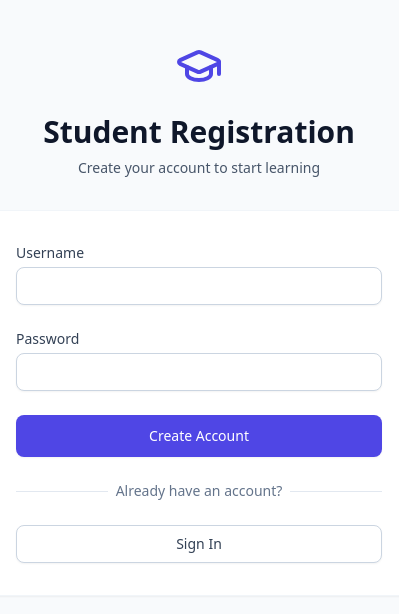
Test: Auth pages › student registration falls back to generic error
The width and height of the screenshot is (399, 614).
Type "new" into the field at [199, 286], box [16,267,382,305]
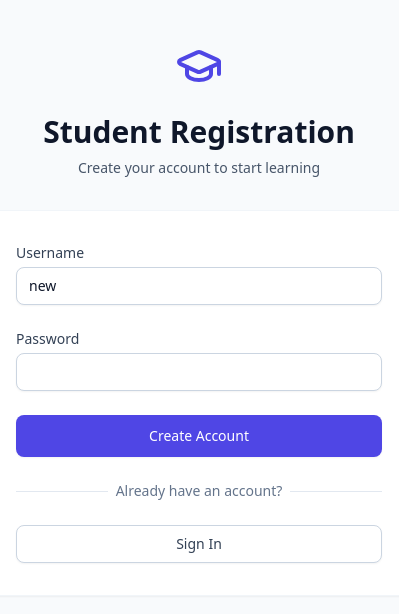
Type "pass" into the password field at [199, 372], box [16,353,382,391]
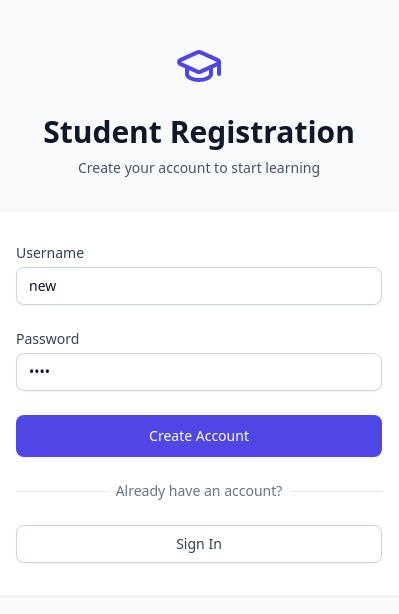
Click the button "Create Account" at [199, 436], box [16,415,382,457]
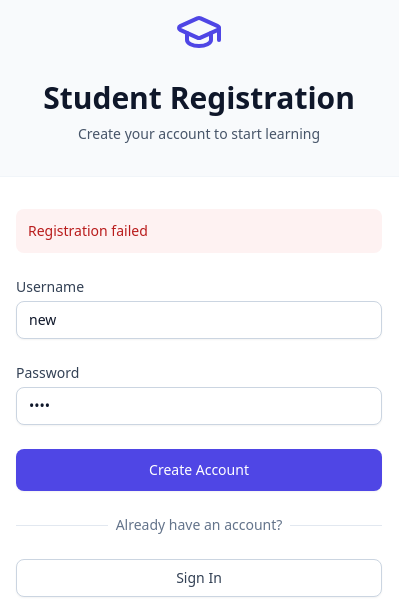
Expected: the text "Registration failed" is shown, [16,209,382,253]
